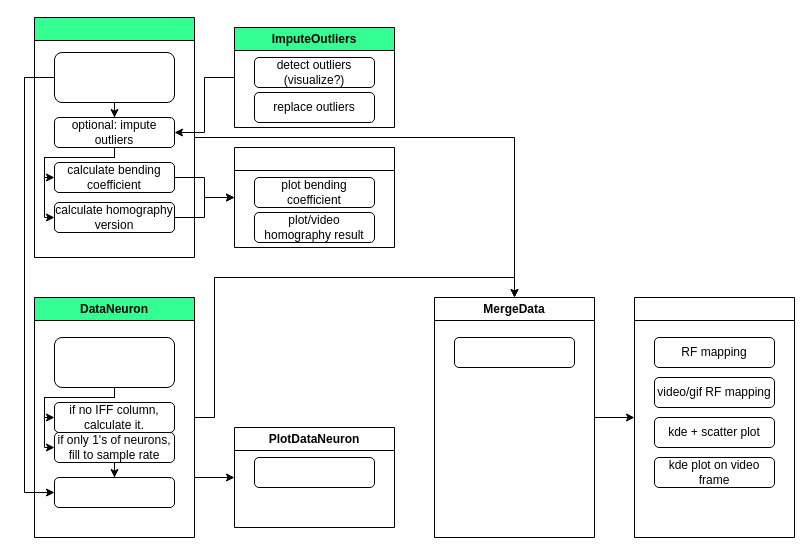
Some shapes in this 812 by 555 pixel diagram are drawn without their labels. Each missing label, with the box of its shape:
DataDLC: (34, 16, 194, 258)
downsample to video fps: (54, 476, 174, 508)
dual plot neuron and IFF: (254, 456, 374, 488)
load csv/xlsx file, REQUIRES at least 2 column inputs.: (54, 336, 174, 388)
load h5 file, split square and monofil into df's: (54, 52, 174, 102)
match dlc and neuron data on time: (454, 336, 574, 368)
PlotData: (634, 296, 794, 538)
PlotDataDLC: (234, 146, 394, 248)
